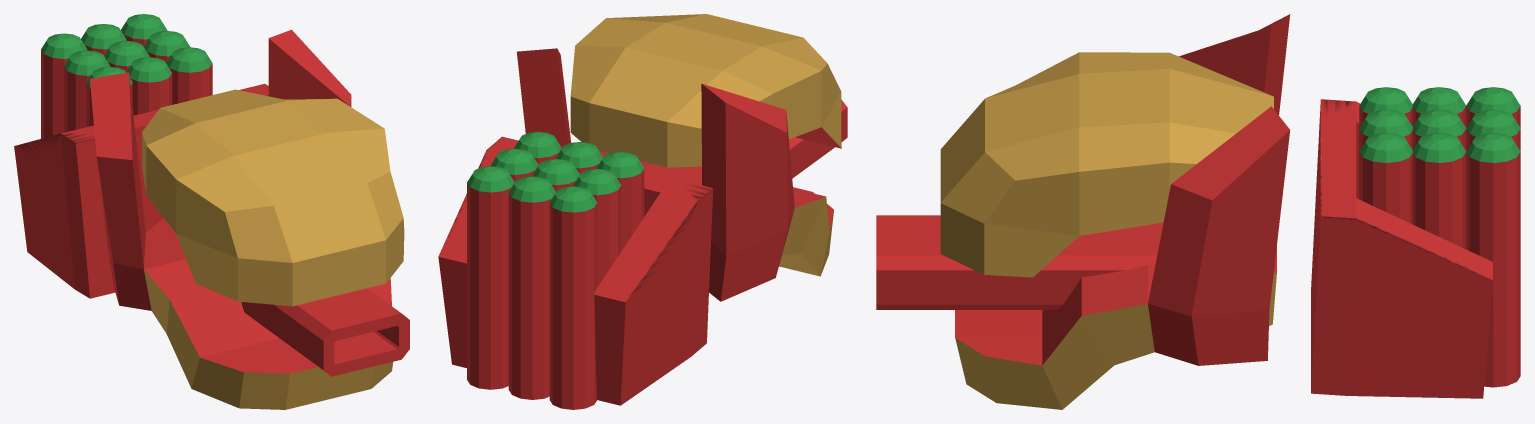
The model's file is head tank3.fbx.
3 renders of one model, left to right at view 1: azimuth 30°, elevation 25°; view 2: azimuth 150°, elevation 25°; view 3: azimuth 270°, elevation 25°, orthographic. The views are drawn at different scales.
Parts seen in each view (by area): view 1: Cube.001; view 2: Cube.001; view 3: Cube.001.
Part boxes in pixels (x1=…): Cube.001: x1=14, y1=14, x2=409, y2=409; Cube.001: x1=438, y1=14, x2=847, y2=409; Cube.001: x1=876, y1=14, x2=1520, y2=409.
Size of the model in its own units: 64.42 by 60.3 by 120.
Materials: 1 (1 with a texture image).
